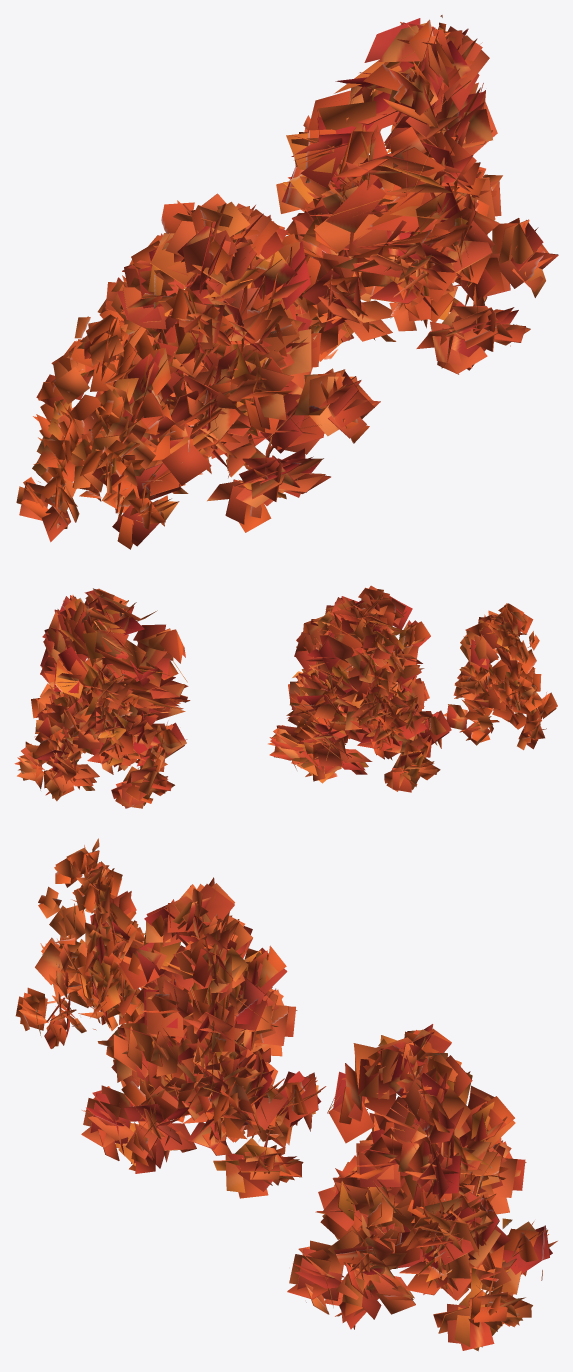
Rendered from AutumnLeaves2.obj.
3 renders of one model, top to bottom at view 1: azimuth 30°, elevation 25°; view 2: azimuth 150°, elevation 25°; view 3: azimuth 270°, elevation 25°, orthographic. The views are drawn at different scales.
Parts seen in each view (by area): view 1: Leabes; view 2: Leabes; view 3: Leabes.
Part boxes in pixels (box(x1,y1,x2,y2)): Leabes: box(16, 15, 558, 549); Leabes: box(14, 585, 557, 808); Leabes: box(15, 838, 557, 1351).
Size of the model in its own units: 0.9776 by 0.4645 by 0.7533.
